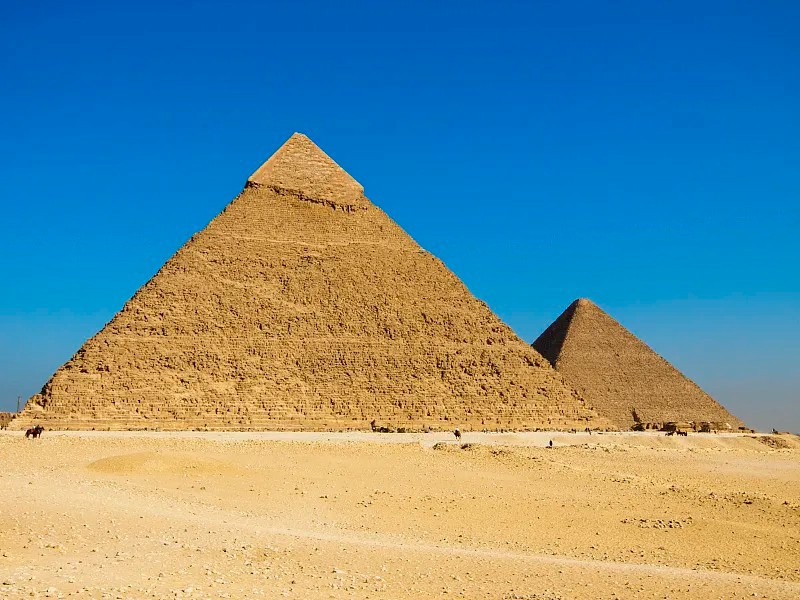Pyramid: (6, 132, 620, 431), (529, 298, 748, 429)
